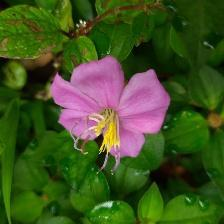malabar melastome: (48, 55, 173, 165)
